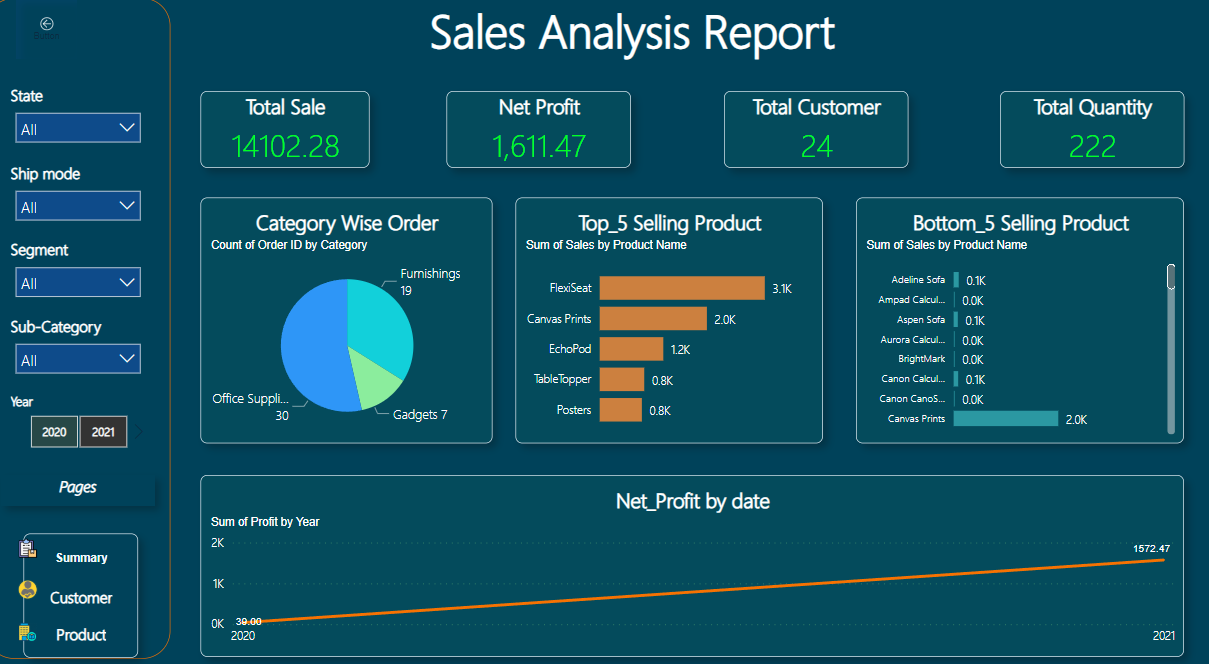

This screenshot's page, from the dashboard's own definition file:
{"tool":"powerbi","page":{"name":"Summary","canvas":[1280,720],"ordinal":1},"visuals":[{"type":"textbox","box":[0,16,192,688],"z":0},{"type":"slicer","title":"State","fields":{"Values":["Souce-File.City"]},"box":[16,96,160,80],"z":1000},{"type":"slicer","title":"Segment","fields":{"Values":["Souce-File.Segment"]},"box":[16,256,160,80],"z":2000},{"type":"barChart","title":"Top_5 Selling  Product","fields":{"Category":["Souce-File.Product Name"],"Y":["Sum(Souce-File.Sales)"]},"box":[552,224,320,256],"z":3000},{"type":"slicer","title":"Ship mode ","fields":{"Values":["Souce-File.Ship Mode"]},"box":[16,176,160,80],"z":4000},{"type":"slicer","title":"Sub-Category","fields":{"Values":["Souce-File.Sub-Category"]},"box":[16,336,160,80],"z":5000},{"type":"lineChart","title":"Net_Profit by date ","fields":{"Category":["Souce-File.Order Date.Variation.Date Hierarchy.Year","Souce-File.Order Date.Variation.Date Hierarchy.Quarter","Souce-File.Order Date.Variation.Date Hierarchy.Month","Souce-File.Order Date.Variation.Date Hierarchy.Day"],"Y":["Sum(Souce-File.Profit)"]},"box":[224,512,1024,189.5],"z":6000},{"type":"pieChart","title":"Category Wise Order","fields":{"Category":["Souce-File.Category"],"Y":["CountNonNull(Souce-File.Order ID)"]},"box":[224,224,304,256],"z":7000},{"type":"pageNavigator","box":[38.6,572.9,119.4,129],"z":8000},{"type":"textbox","box":[16,512,160,32],"z":9000},{"type":"card","title":"Total Customer","fields":{"Values":["Count(Souce-File.Customer Name)"]},"box":[768,112,192,80],"z":10000},{"type":"card","title":"Total Quantity","fields":{"Values":["Sum(Souce-File.Quantity)"]},"box":[1056,112,192,80],"z":11000},{"type":"card","title":"Total Sale","fields":{"Values":["Sum(Souce-File.Sales)"]},"box":[224,112,176,80],"z":12000},{"type":"card","title":"Net Profit","fields":{"Values":["Sum(Souce-File.Profit)"]},"box":[480,112,192,80],"z":13000},{"type":"textbox","box":[224,16,1024,80],"z":14000},{"type":"slicer","title":"Year","fields":{"Values":["Souce-File.Dispatch Date.Variation.Date Hierarchy.Year"]},"box":[16,416,160,80],"z":15000},{"type":"actionButton","title":"Summary","box":[32,16,64,64],"z":17000},{"type":"image","box":[24,568,40,40],"z":21000},{"type":"image","box":[24,656,40,40],"z":22000},{"type":"image","box":[24,608,40,48],"z":23000},{"type":"barChart","title":"Bottom_5 Selling Product","fields":{"Category":["Souce-File.Product Name"],"Y":["Sum(Souce-File.Sales)"]},"box":[905.8,223.7,341.6,256],"z":24001}]}

Visuals, with their boxes in screenshot pixels (x1, y1, x2, y2), scaled from the page's 1280x720 canvas onto the 1209x664 screenshot:
textbox: 0, 15, 181, 649
"State" slicer: 15, 89, 166, 162
"Segment" slicer: 15, 236, 166, 310
"Top_5 Selling  Product" barChart: 521, 207, 824, 443
"Ship mode " slicer: 15, 162, 166, 236
"Sub-Category" slicer: 15, 310, 166, 384
"Net_Profit by date " lineChart: 212, 472, 1179, 647
"Category Wise Order" pieChart: 212, 207, 499, 443
pageNavigator: 36, 528, 149, 647
textbox: 15, 472, 166, 502
"Total Customer" card: 725, 103, 907, 177
"Total Quantity" card: 997, 103, 1179, 177
"Total Sale" card: 212, 103, 378, 177
"Net Profit" card: 453, 103, 635, 177
textbox: 212, 15, 1179, 89
"Year" slicer: 15, 384, 166, 457
"Summary" actionButton: 30, 15, 91, 74
image: 23, 524, 60, 561
image: 23, 605, 60, 642
image: 23, 561, 60, 605
"Bottom_5 Selling Product" barChart: 856, 206, 1178, 442
